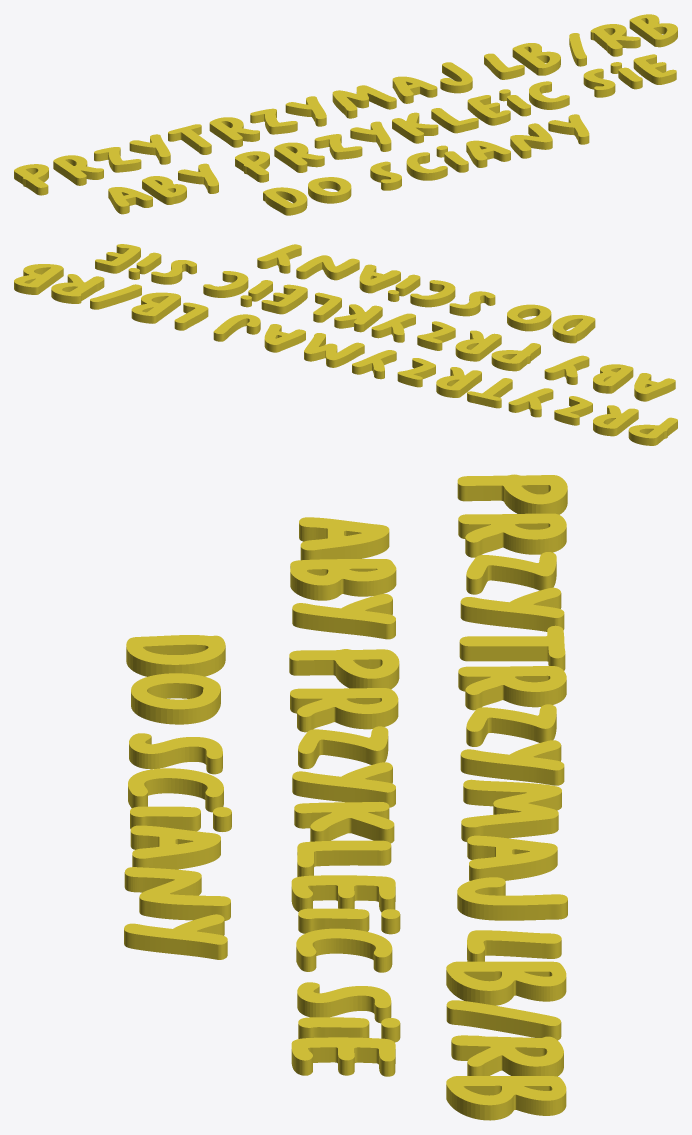
Rendered from przyklejenie.fbx.
The picture shows the model from 3 angles, top to bottom: view 1: azimuth 30°, elevation 25°; view 2: azimuth 150°, elevation 25°; view 3: azimuth 270°, elevation 25°; orthographic projection. The views are drawn at different scales.
Visible parts, largest first — view 1: przyklejenie; view 2: przyklejenie; view 3: przyklejenie.
Boxes of the visible parts, left/top/right/bottom form: przyklejenie: left=14, top=14, right=677, bottom=215; przyklejenie: left=14, top=244, right=677, bottom=445; przyklejenie: left=124, top=474, right=567, bottom=1120.
Bounding box in the file's own units: 887 × 10 × 264.
